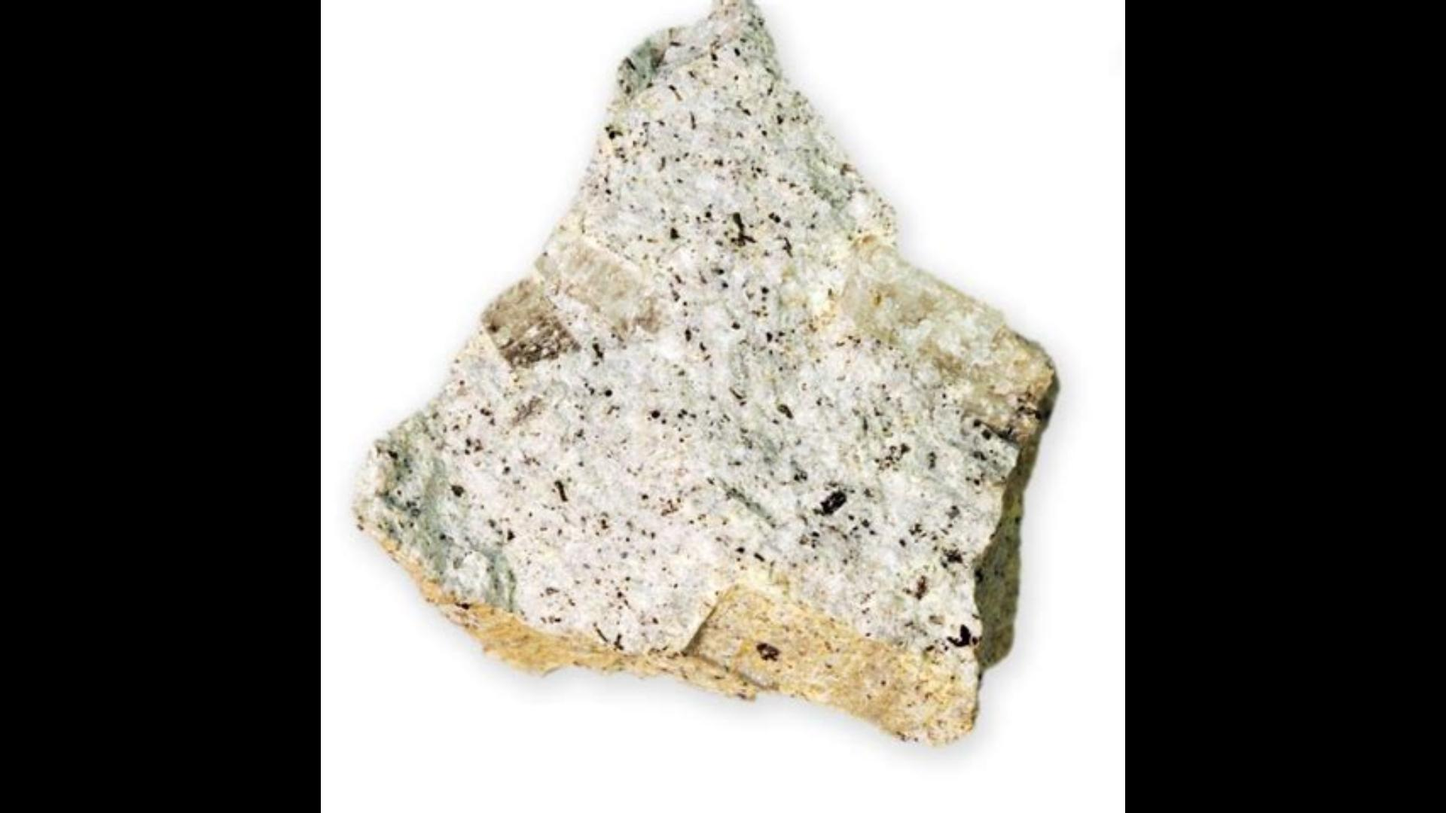rock: (358, 3, 1056, 740)
